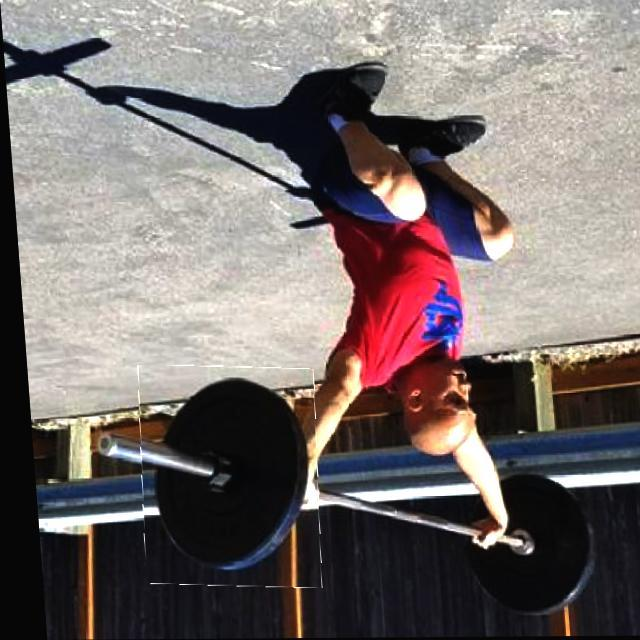barbell: (127, 366, 319, 589)
